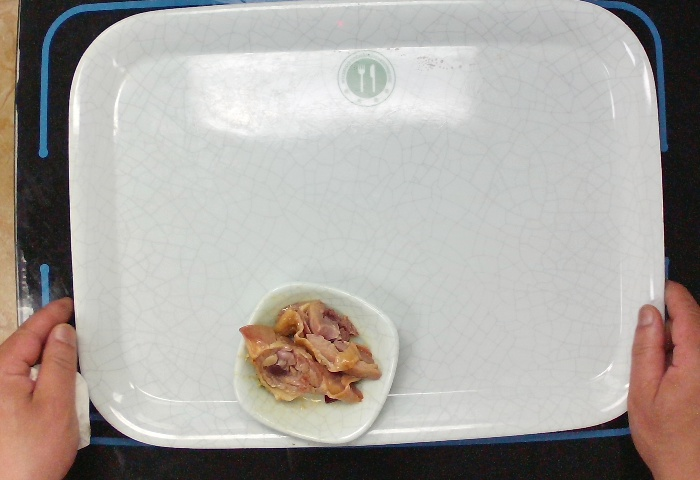JYsf-Si_Fang_Die: (233, 278, 405, 447)
